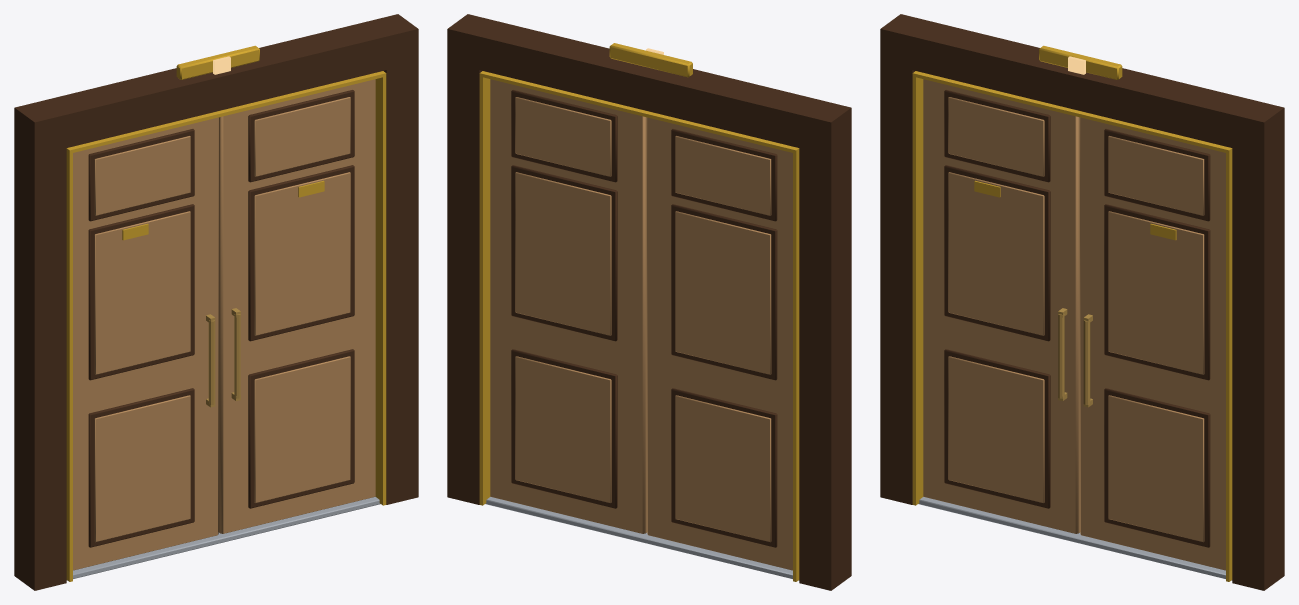
Rendered from door_officer_wood.glb.
The picture shows the model from 3 angles, left to right: view 1: azimuth 30°, elevation 25°; view 2: azimuth 150°, elevation 25°; view 3: azimuth 330°, elevation 25°; orthographic projection.
Visible parts, largest first — view 1: body, leaf_r, leaf_l; view 2: body, leaf_r, leaf_l; view 3: body, leaf_l, leaf_r.
Boxes of the visible parts, x1,y1,x2,y2 form: body: (14, 14, 418, 590); leaf_r: (218, 79, 375, 533); leaf_l: (73, 117, 218, 570); body: (447, 14, 851, 590); leaf_r: (490, 79, 647, 533); leaf_l: (647, 117, 792, 570); body: (880, 14, 1284, 590); leaf_l: (923, 79, 1080, 533); leaf_r: (1080, 117, 1225, 570).
Bounding box in the file's own units: 2.4 × 2.88 × 0.25.
